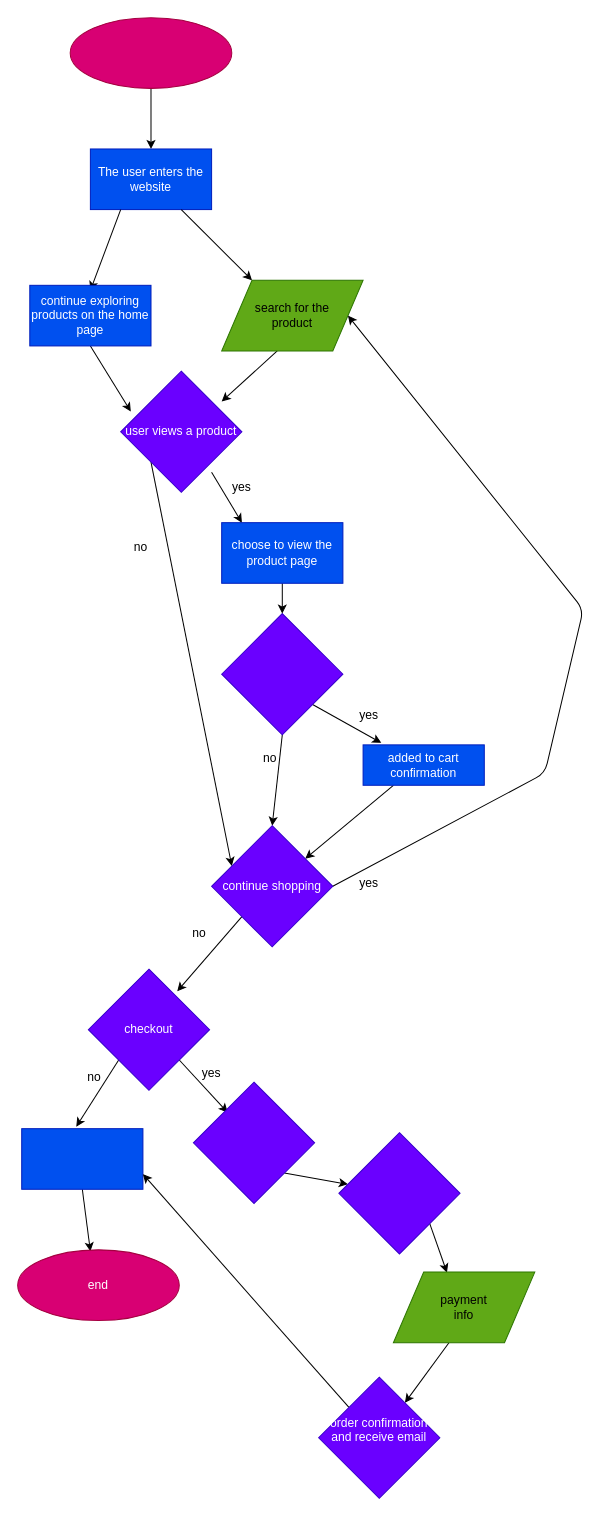
The diagram is 609 pixels wide and 1516 high, and some of its shapes have lost their labels. The centre of each missing label's shape, as x and y in pixels:
"add to cart" goes at (282,674).
"leave the website" goes at (82,1158).
"start" goes at (150,52).
"view cart" goes at (253,1142).
"view payment" goes at (399,1193).
